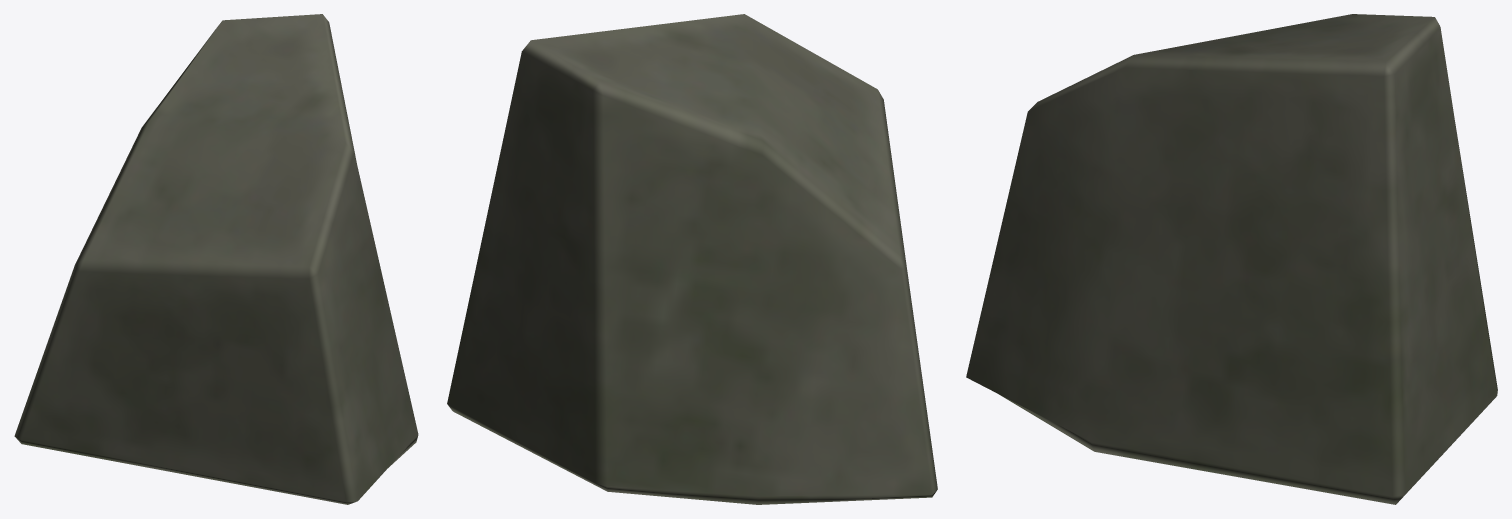
Rendered from AP2_Rock1.glb.
3 renders of one model, left to right at view 1: azimuth 30°, elevation 25°; view 2: azimuth 150°, elevation 25°; view 3: azimuth 270°, elevation 25°, orthographic. The views are drawn at different scales.
Visible parts, largest first — view 1: Rock1_LOD0; view 2: Rock1_LOD0; view 3: Rock1_LOD0.
Part boxes in pixels (x1,y1,x2,y2): Rock1_LOD0: (14,14,418,504); Rock1_LOD0: (447,14,937,504); Rock1_LOD0: (966,14,1497,504).
Bounding box in the file's own units: 0.6976 × 0.5629 × 0.6696.
Materials: 1 (1 with a texture image).
